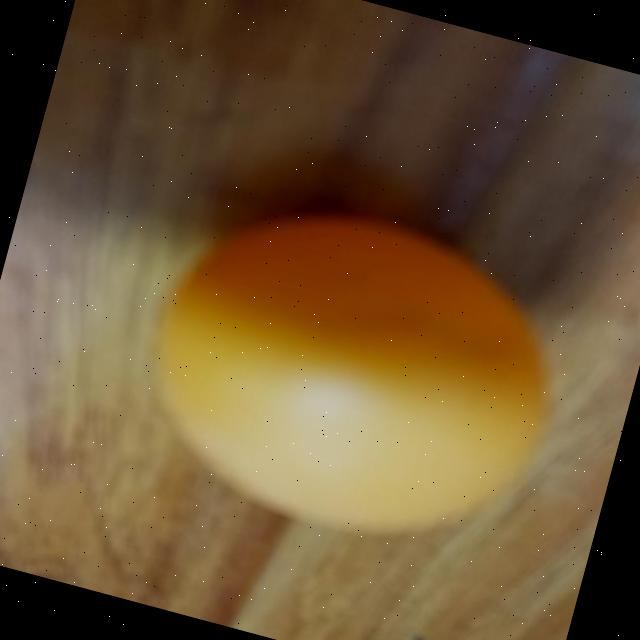ping-pong-ball: (115, 173, 581, 574)
